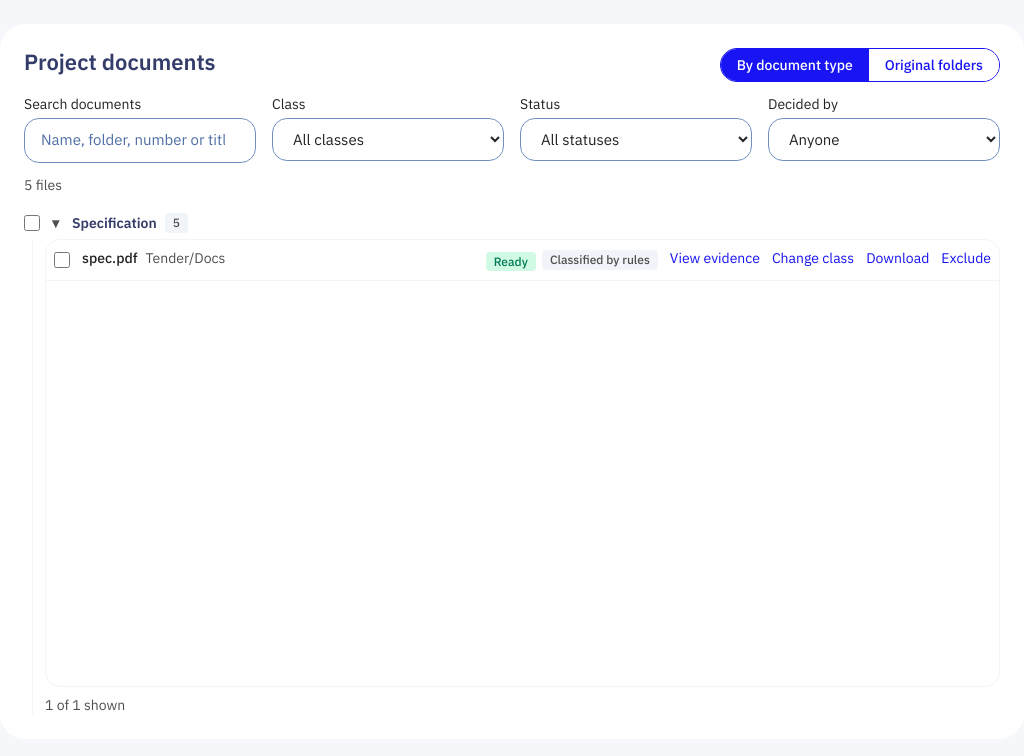
Test: DocumentTree › the group checkbox selects the whole group server-side and bulk reclassify loops the cursor
Click the checkbox named "Select all 5 in Specification" at (32, 222), box [24,214,40,230]
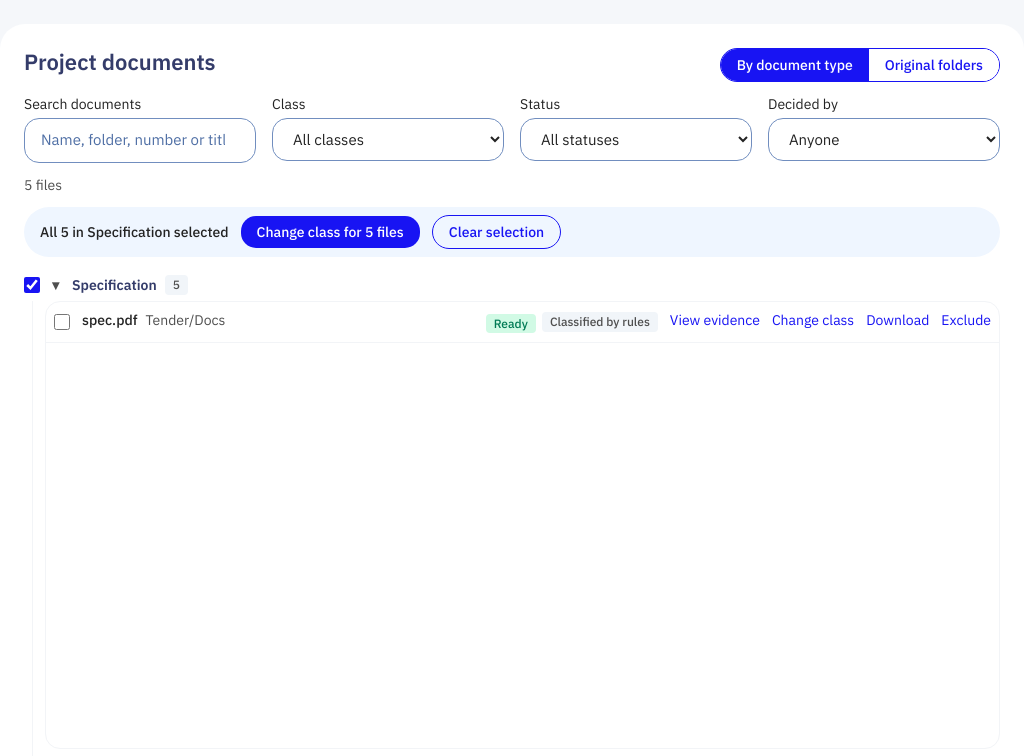
Now the text "All 5 in Specification selected" is shown, box [40,222,228,242]
Click the button "Change class for 5 files" at (330, 232), box [240,216,420,248]
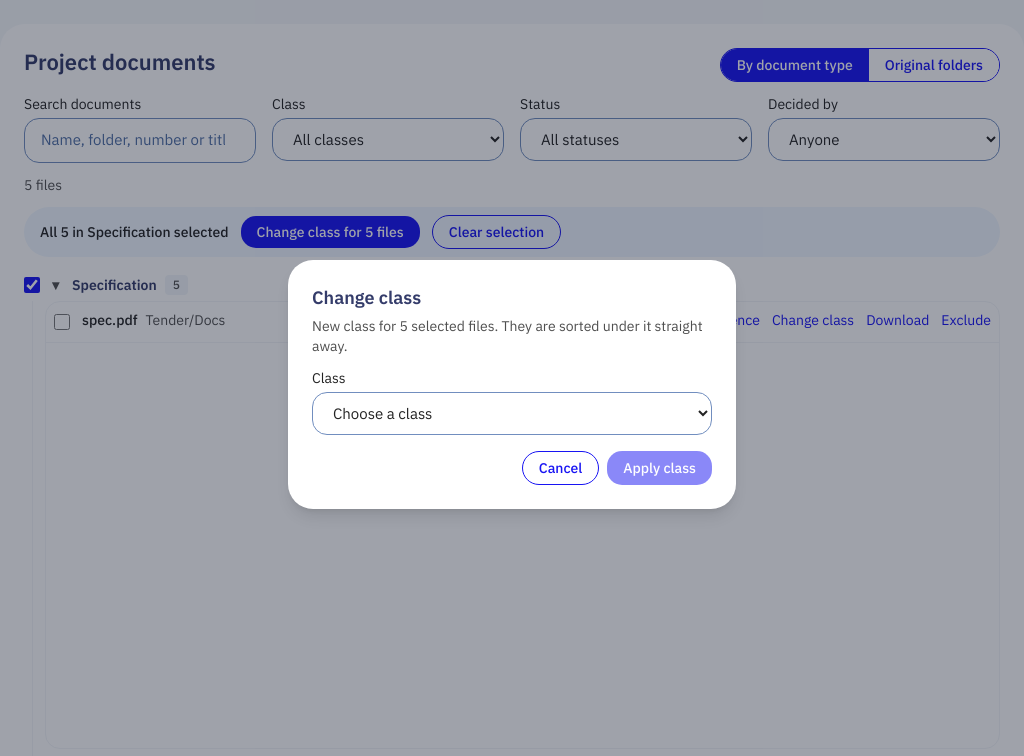
Select "Other" in the dropdown labelled "Class" at (512, 413), box [312,392,712,434]
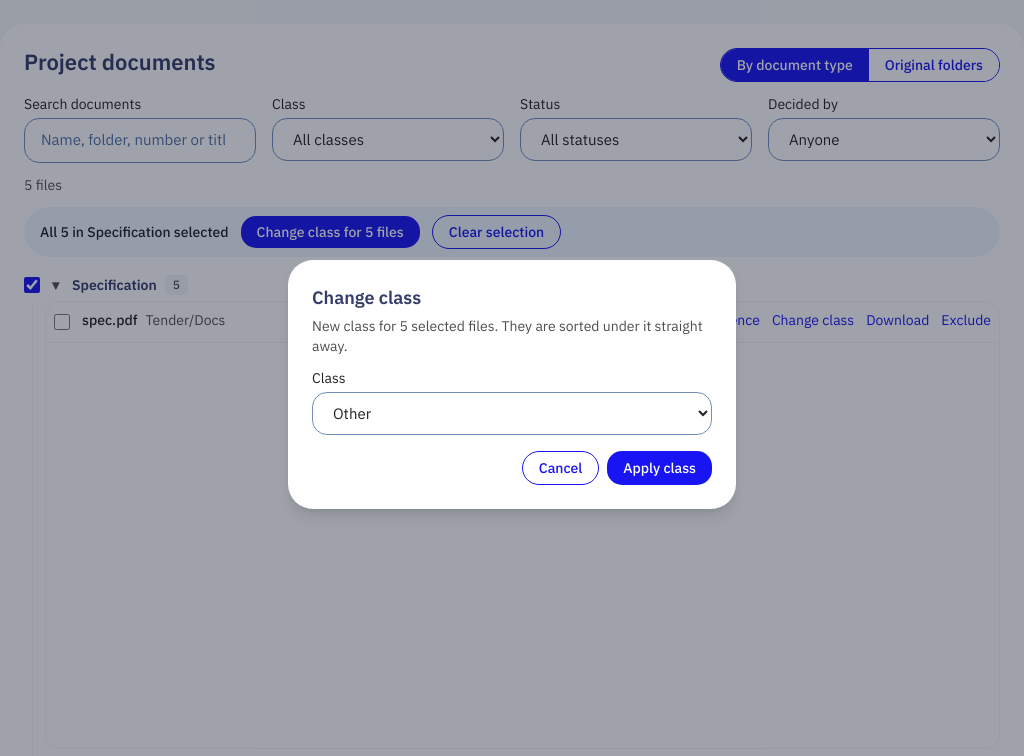
Click the button "Apply class" at (660, 468), box [607,450,712,484]
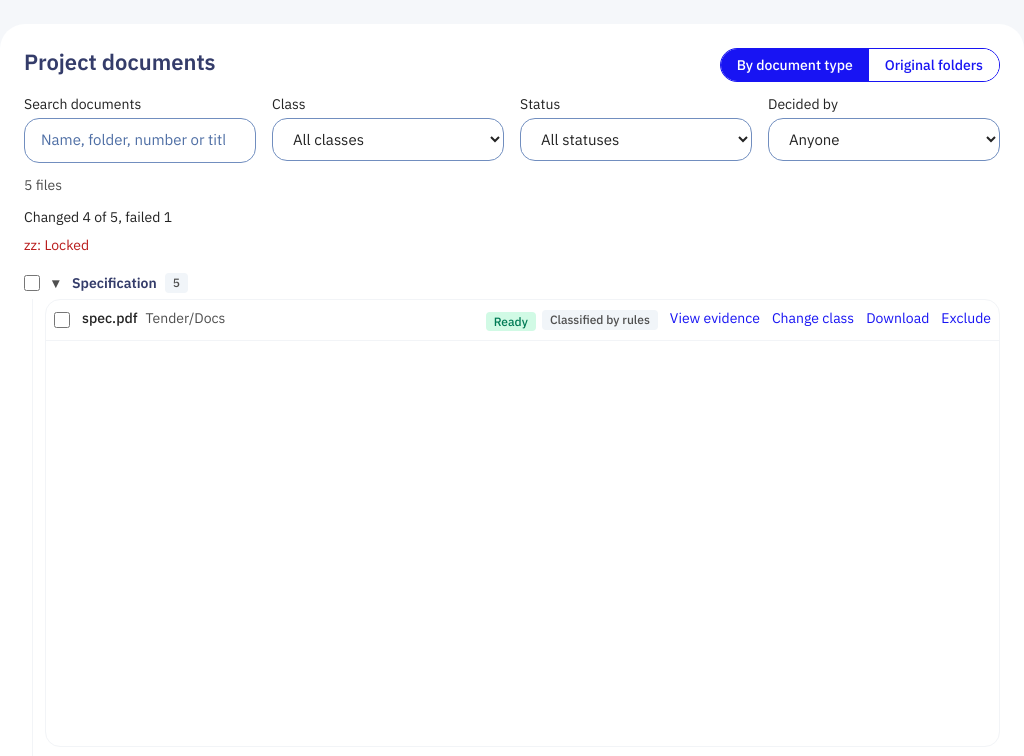
Now the text "Changed 4 of 5, failed 1" is shown, box [24,208,172,226]
Now the message "zz: Locked" is shown, box [24,236,89,254]
